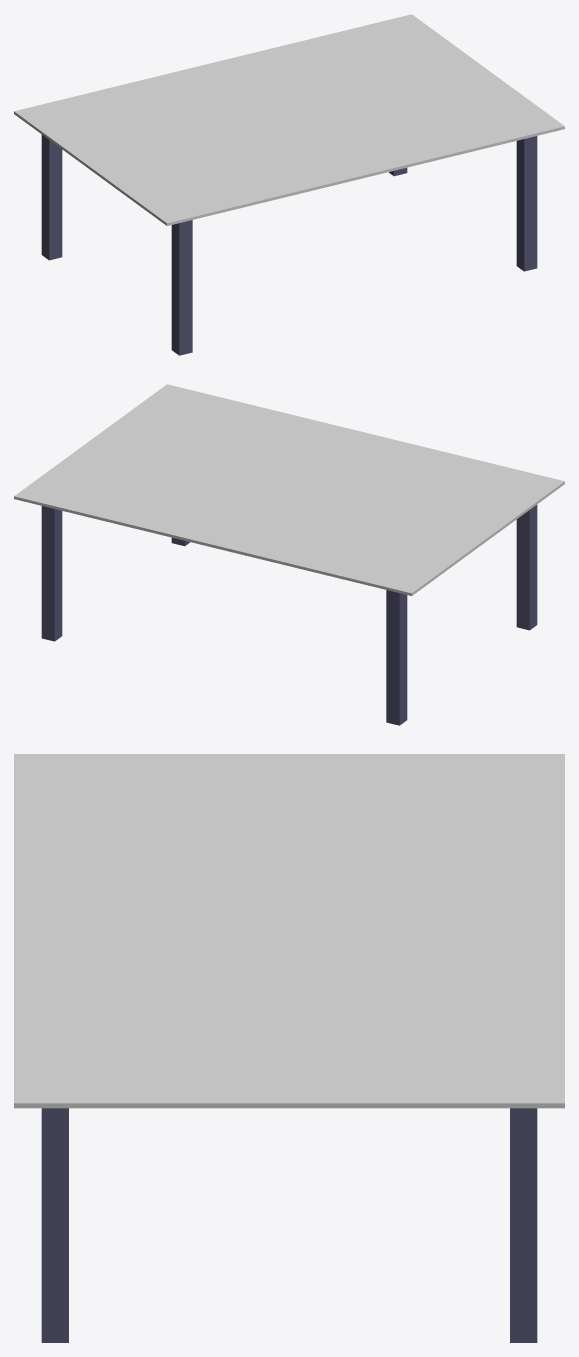
File: mesaTextura.fbx
3 views of the same model, one above another, from view 1: azimuth 30°, elevation 25°; view 2: azimuth 150°, elevation 25°; view 3: azimuth 270°, elevation 25° (orthographic). The views are drawn at different scales.
Visible parts, largest first — view 1: Box001; view 2: Box001; view 3: Box001.
Boxes of the visible parts, <box> form: Box001: <box>14,14,564,355</box>; Box001: <box>14,384,564,725</box>; Box001: <box>14,754,564,1342</box>.
Bounding box in the file's own units: 3 × 1.03 × 2.
